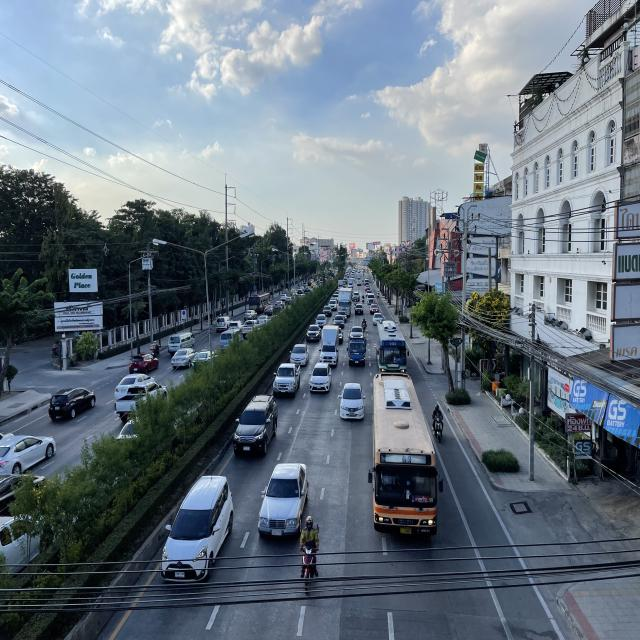bike: (298, 513, 321, 594), (431, 402, 444, 444)
bus: (370, 373, 441, 537), (375, 321, 410, 378)
car: (158, 475, 236, 587), (258, 462, 310, 540), (232, 396, 279, 458), (272, 363, 302, 400), (339, 383, 366, 421), (309, 362, 332, 394), (289, 344, 310, 367), (306, 324, 321, 342)
truck: (320, 326, 340, 366), (348, 332, 366, 368), (338, 287, 352, 317)
